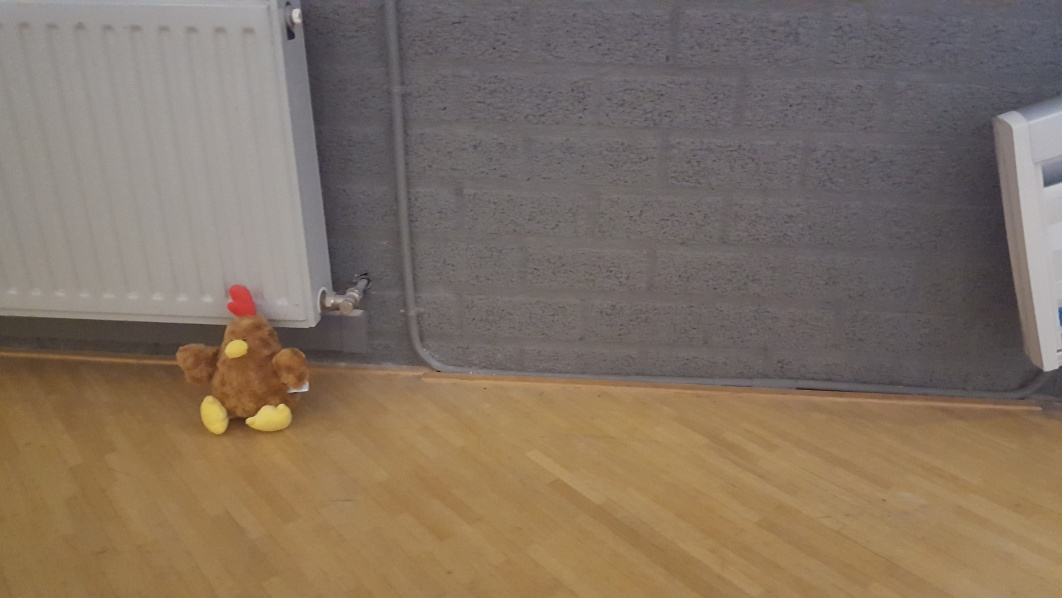chicken: (177, 286, 312, 440)
